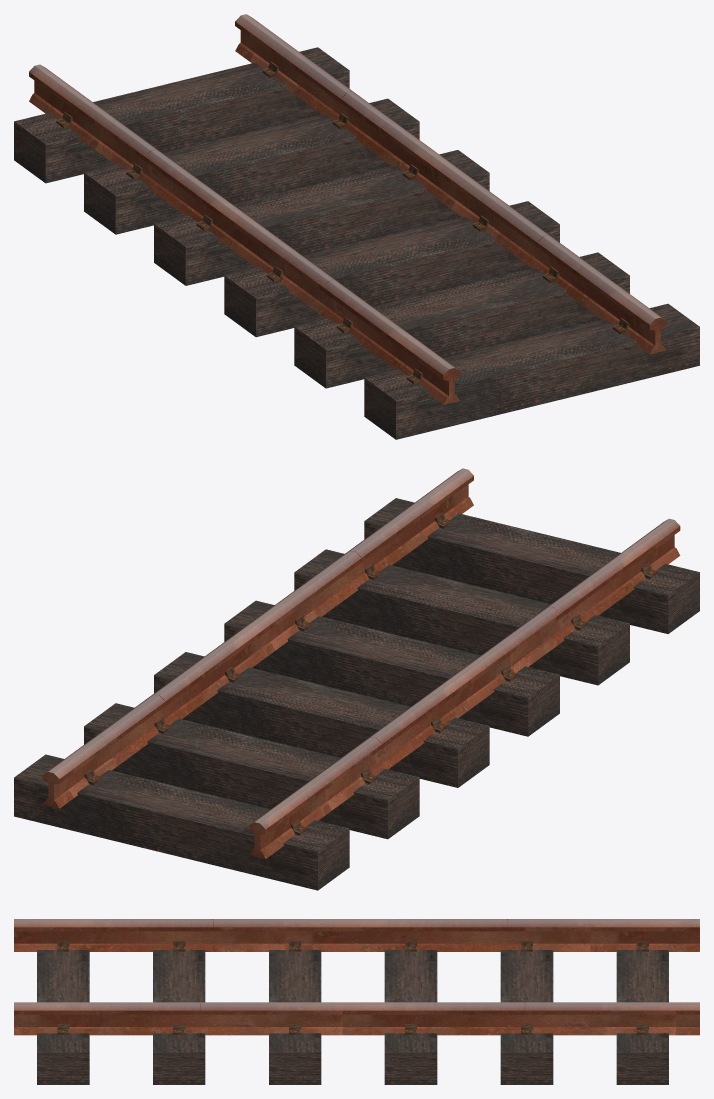
The model's file is rail_track_1000mm_tracks.obj.
The picture shows the model from 3 angles, top to bottom: view 1: azimuth 30°, elevation 25°; view 2: azimuth 150°, elevation 25°; view 3: azimuth 270°, elevation 25°; orthographic projection. The views are drawn at different scales.
Visible parts, largest first — view 1: RailTrackLogs, RailTrackTrack; view 2: RailTrackLogs, RailTrackTrack; view 3: RailTrackTrack, RailTrackLogs.
Boxes of the visible parts, box(x1,y1,x2,y2) form: RailTrackLogs: box(14, 47, 699, 439); RailTrackTrack: box(29, 14, 666, 404); RailTrackLogs: box(14, 498, 699, 890); RailTrackTrack: box(42, 468, 680, 858); RailTrackTrack: box(14, 919, 699, 1035); RailTrackLogs: box(37, 950, 668, 1084).
Size of the model in its own units: 1.51 by 0.3392 by 3.58.
